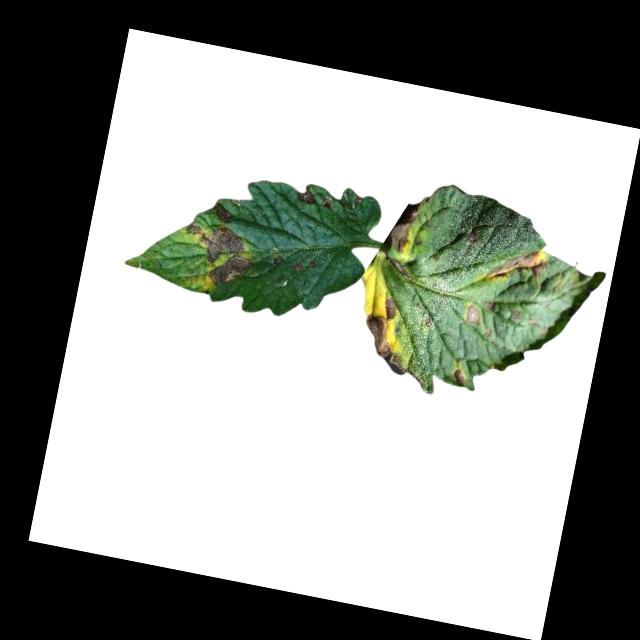Early_blight: (174, 219, 258, 292), (355, 292, 421, 376), (481, 236, 553, 291), (380, 194, 418, 259), (464, 301, 483, 328), (295, 186, 320, 206), (453, 367, 471, 388), (271, 252, 285, 264), (289, 258, 301, 270)
